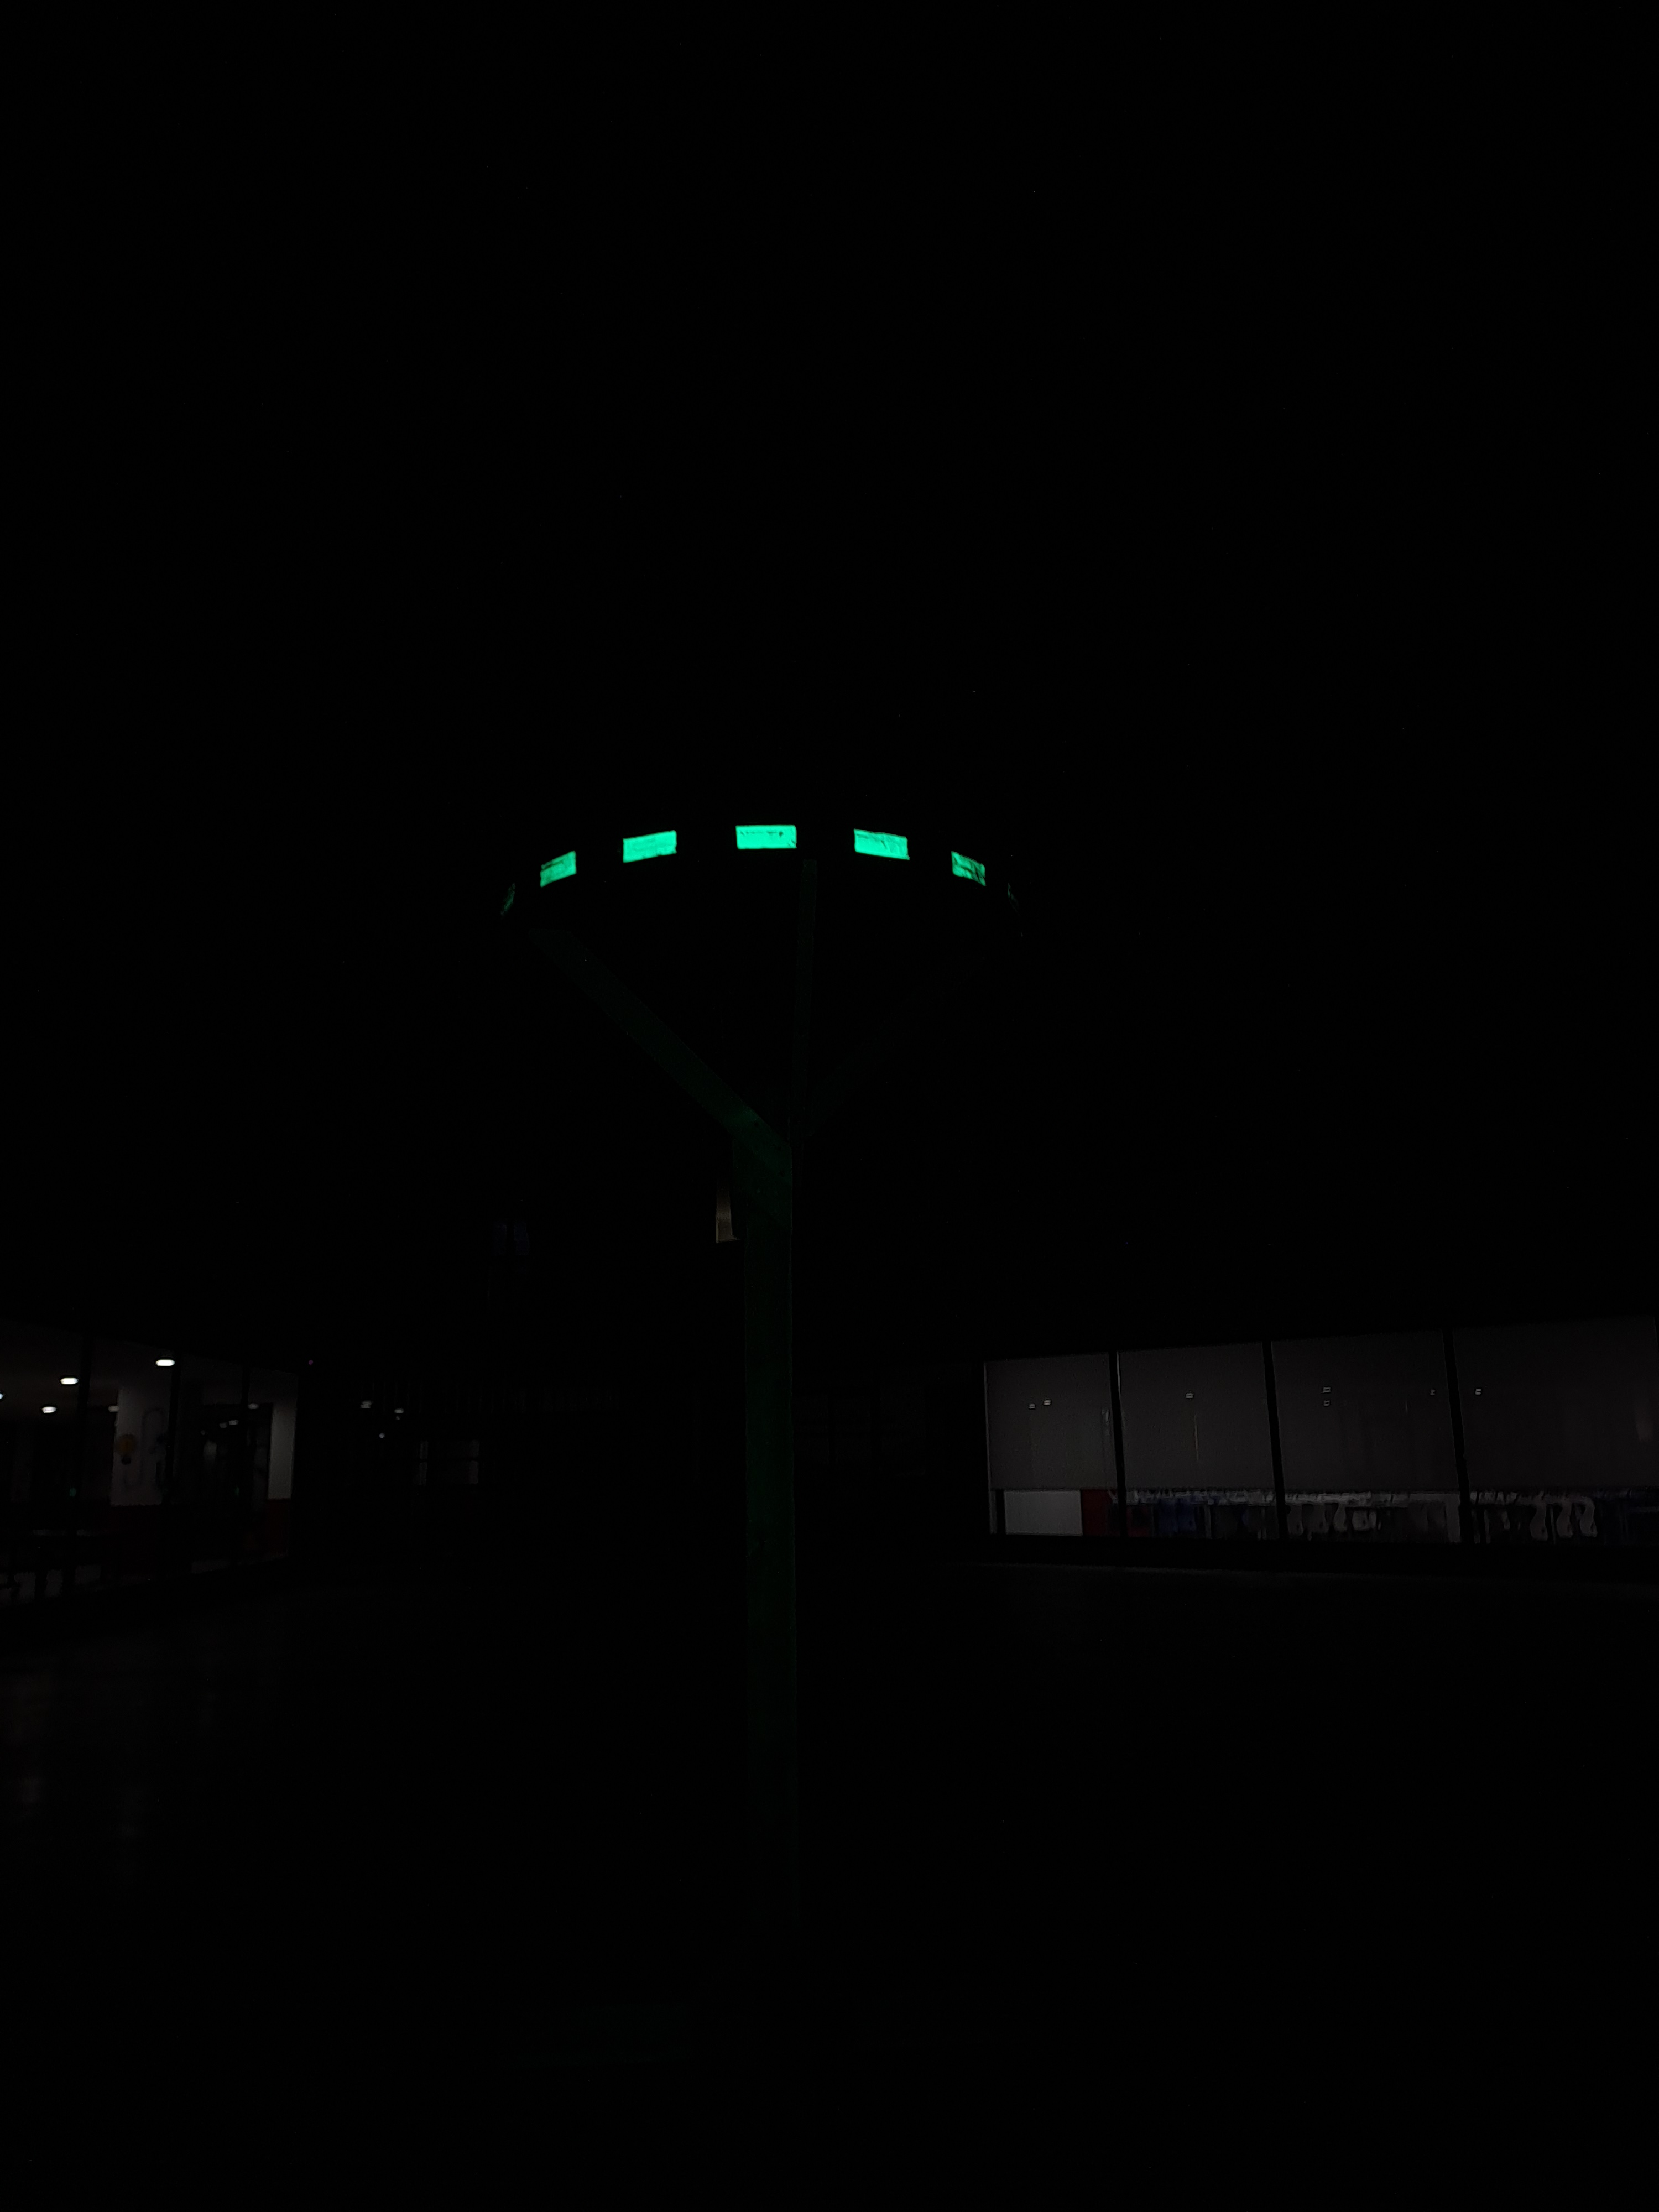hoop: (535, 817, 990, 900)
